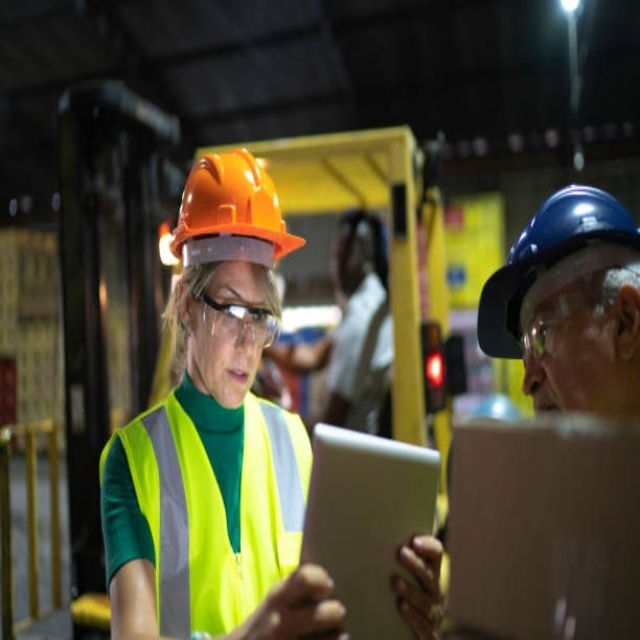Gafas: (519, 279, 601, 362), (197, 289, 281, 351)
Sin_guantes: (237, 561, 348, 640), (390, 530, 447, 640)
Sin_mascara: (519, 370, 566, 416), (219, 351, 259, 400)
